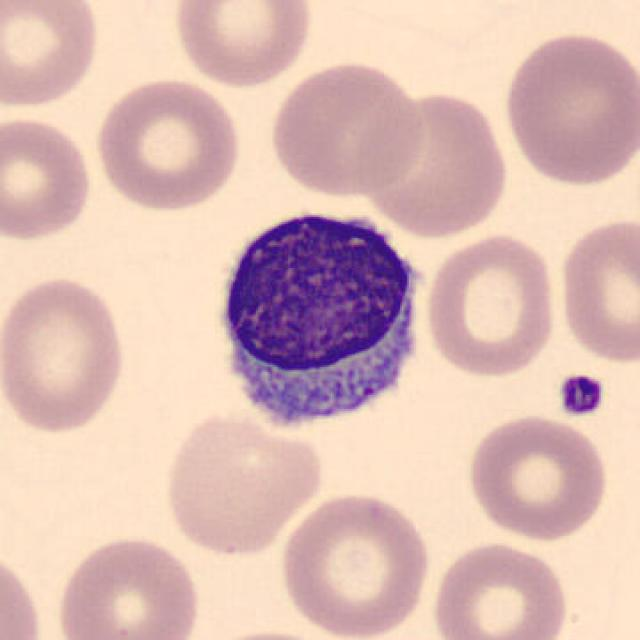Lymphocyte: (202, 196, 436, 440)
Platelets: (555, 370, 608, 420)
RBC: (158, 405, 326, 559), (357, 86, 514, 240), (276, 488, 436, 638), (265, 56, 428, 201), (499, 27, 636, 190), (0, 272, 132, 437), (91, 74, 245, 213), (421, 229, 560, 381), (462, 411, 612, 545), (51, 530, 204, 640), (428, 537, 572, 640), (554, 211, 640, 368), (169, 0, 316, 90), (0, 113, 96, 245), (0, 0, 103, 111), (0, 543, 48, 640), (192, 626, 352, 640)
